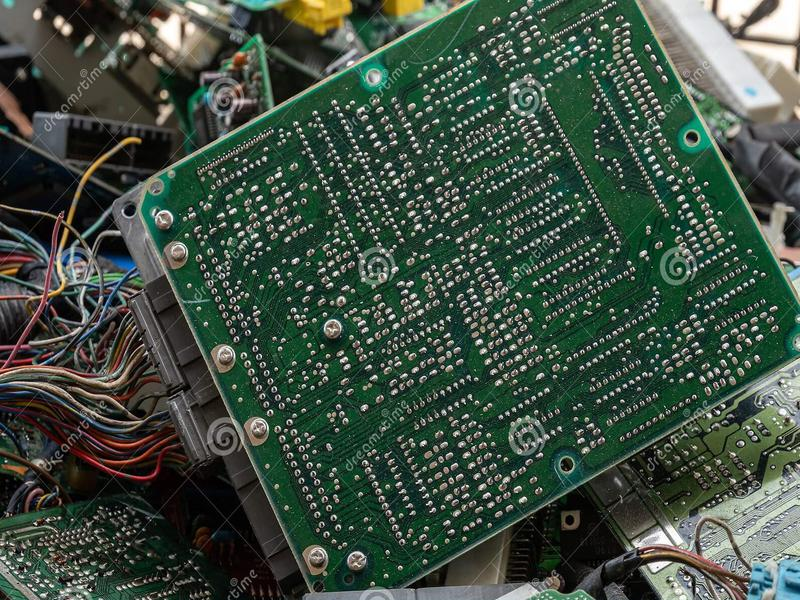circuit_board: (85, 1, 800, 592)
